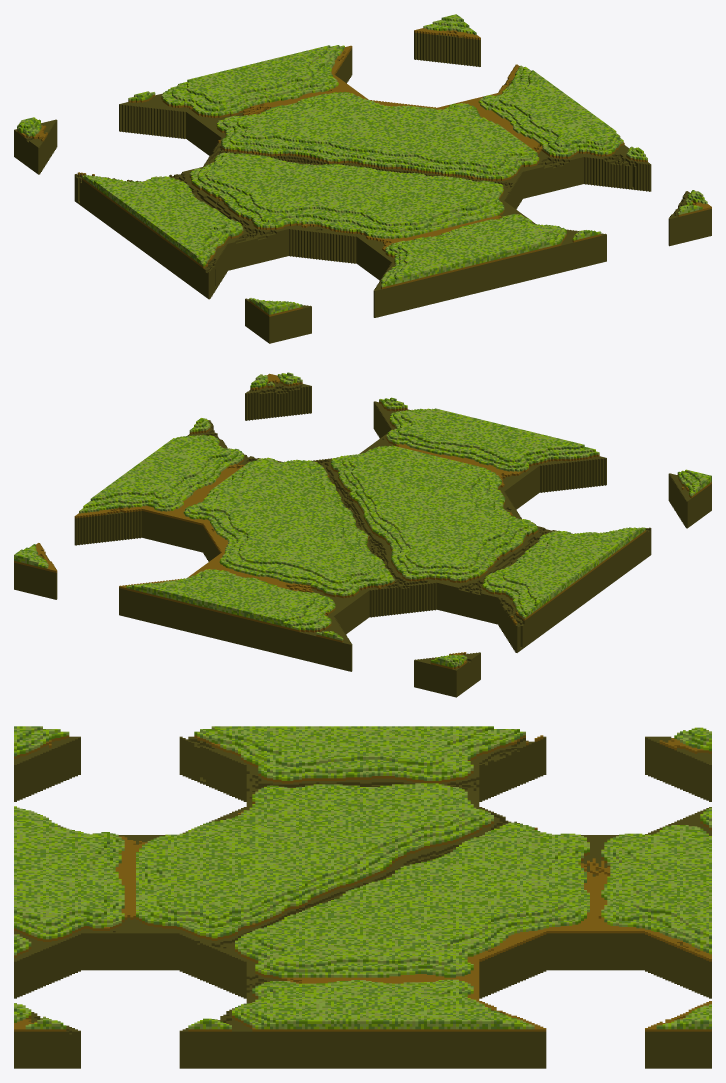
Rendered from Tab B4-0.obj.
The picture shows the model from 3 angles, top to bottom: view 1: azimuth 30°, elevation 25°; view 2: azimuth 150°, elevation 25°; view 3: azimuth 270°, elevation 25°; orthographic projection. The views are drawn at different scales.
Bounding box in the file's own units: 24 × 1.8 × 24.
Materials: 1 (1 with a texture image).
